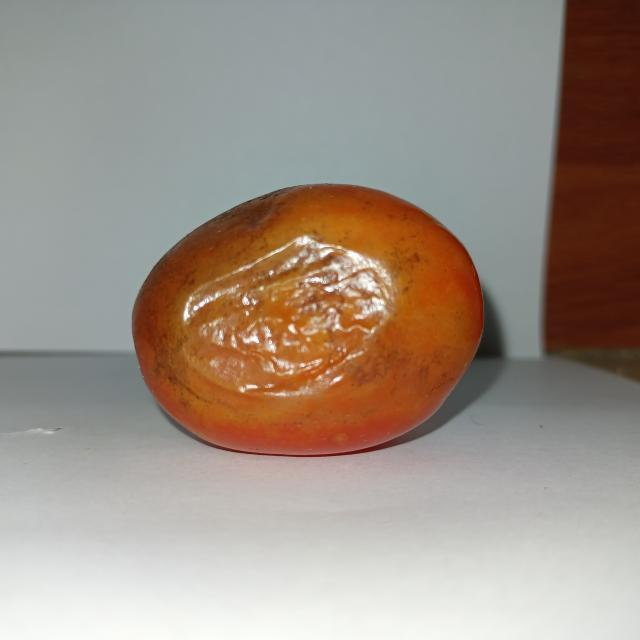Red: (130, 181, 485, 457)
